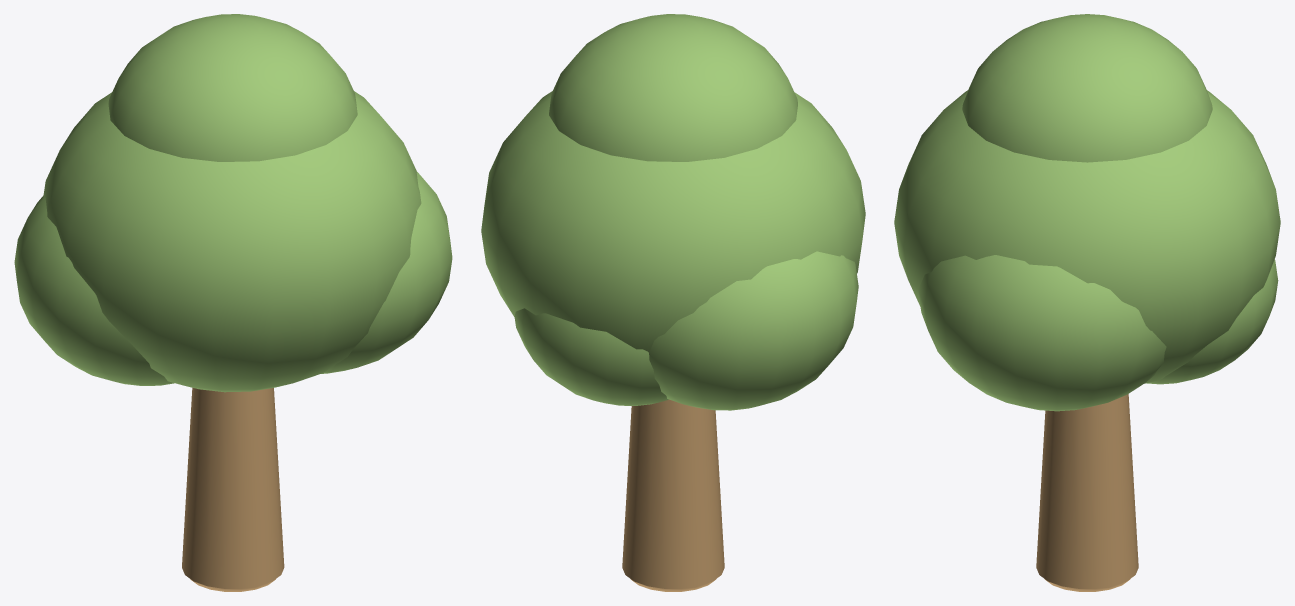
File: toy_tree_felt.glb
3 renders of one model, left to right at view 1: azimuth 30°, elevation 25°; view 2: azimuth 150°, elevation 25°; view 3: azimuth 270°, elevation 25°, orthographic.
Visible parts, largest first — view 1: Crown_0, Crown_4, Trunk, Crown_1, Crown_2; view 2: Crown_0, Crown_4, Crown_1, Trunk, Crown_3; view 3: Crown_0, Crown_4, Crown_2, Trunk, Crown_3.
Part boxes in pixels (x1=…): Crown_0: x1=43, y1=91, x2=421, y2=392; Crown_4: x1=108, y1=14, x2=357, y2=161; Trunk: x1=182, y1=388, x2=284, y2=591; Crown_1: x1=14, y1=195, x2=174, y2=385; Crown_2: x1=321, y1=172, x2=452, y2=373; Crown_0: x1=481, y1=91, x2=865, y2=352; Crown_4: x1=549, y1=14, x2=797, y2=161; Crown_1: x1=649, y1=251, x2=858, y2=410; Trunk: x1=622, y1=399, x2=724, y2=591; Crown_3: x1=514, y1=308, x2=668, y2=405; Crown_0: x1=894, y1=90, x2=1280, y2=383; Crown_4: x1=962, y1=14, x2=1212, y2=162; Crown_2: x1=918, y1=255, x2=1166, y2=411; Trunk: x1=1036, y1=394, x2=1138, y2=591; Crown_3: x1=1147, y1=259, x2=1278, y2=384.
Size of the model in its own units: 2.82 by 3.97 by 2.55.
